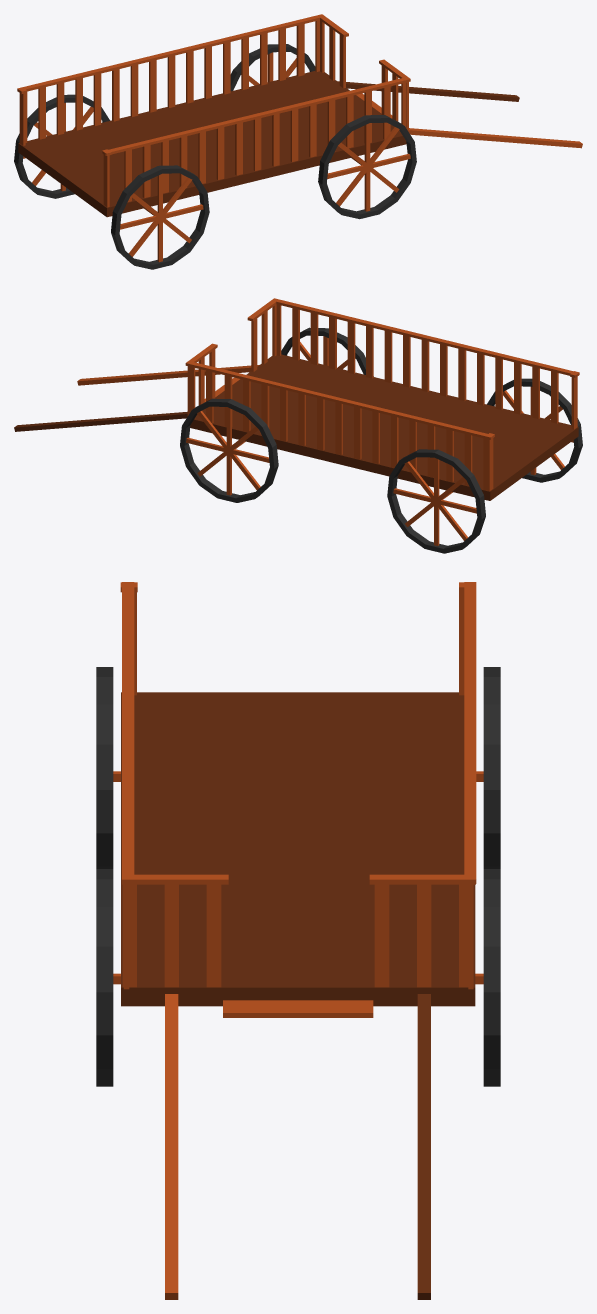
Rendered from Carro sin Puerta.fbx.
The picture shows the model from 3 angles, top to bottom: view 1: azimuth 30°, elevation 25°; view 2: azimuth 150°, elevation 25°; view 3: azimuth 270°, elevation 25°; orthographic projection. The views are drawn at different scales.
Visible parts, largest first — view 1: Cube, Cube.010, Cylinder.003, Cylinder.002, Cube.006, Cube.009, Cylinder.001, Cube.001, Cube.003, Cylinder, Cube.004; view 2: Cube, Cube.010, Cylinder.001, Cylinder, Cube.007, Cube.004, Cylinder.003, Cube.003, Cube.001, Cylinder.002, Cube.009; view 3: Cube, Cube.010, Cube.001, Cube.003, Cylinder, Cylinder.002, Cylinder.001, Cylinder.003, Cube.002.
Part boxes in pixels (x1,y1,x2,y2): Cube: (18, 71, 406, 217); Cube.010: (17, 14, 410, 207); Cylinder.003: (111, 165, 209, 269); Cylinder.002: (318, 115, 416, 219); Cube.006: (327, 123, 410, 211); Cube.009: (120, 173, 203, 262); Cylinder.001: (14, 94, 110, 198); Cube.001: (409, 128, 582, 148); Cube.003: (338, 81, 519, 101); Cylinder: (230, 44, 315, 91); Cube.004: (23, 103, 93, 191); Cube: (190, 354, 578, 500); Cube.010: (185, 298, 579, 491); Cylinder.001: (387, 449, 485, 553); Cylinder: (180, 398, 278, 502); Cube.007: (186, 407, 269, 495); Cube.004: (393, 457, 476, 545); Cylinder.003: (487, 378, 582, 482); Cube.003: (14, 411, 187, 431); Cube.001: (77, 365, 258, 385); Cylinder.002: (281, 327, 373, 376); Cube.009: (503, 386, 573, 475); Cube: (121, 692, 475, 1006); Cube.010: (120, 582, 476, 989); Cube.001: (165, 994, 178, 1299); Cube.003: (417, 994, 430, 1299); Cylinder: (483, 869, 500, 1086); Cylinder.002: (96, 869, 113, 1086); Cylinder.001: (483, 667, 500, 868); Cylinder.003: (96, 667, 113, 868); Cube.002: (223, 1000, 373, 1017).
Size of the model in its own units: 636 by 151 by 228.
